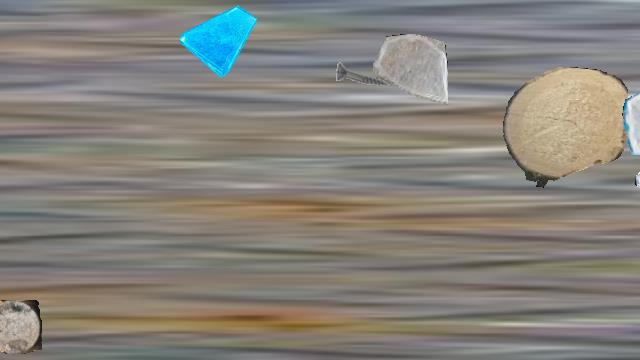glass: (180, 1, 256, 77), (373, 34, 447, 108), (622, 85, 640, 159)
metal: (334, 43, 396, 105), (635, 139, 640, 201)
wood: (503, 67, 627, 189), (0, 300, 41, 354)
